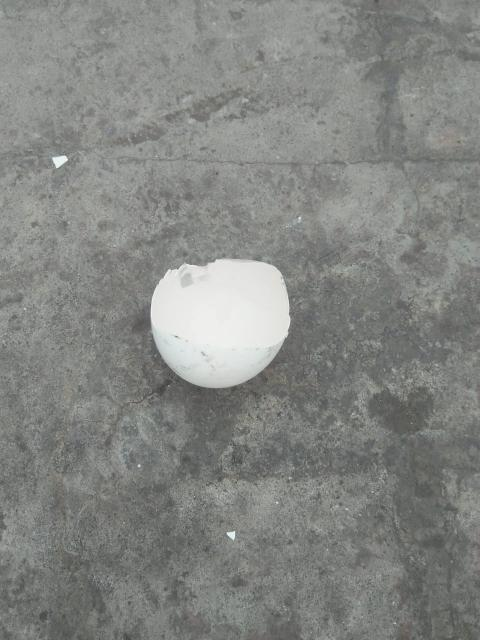Roto: (149, 256, 291, 389)
